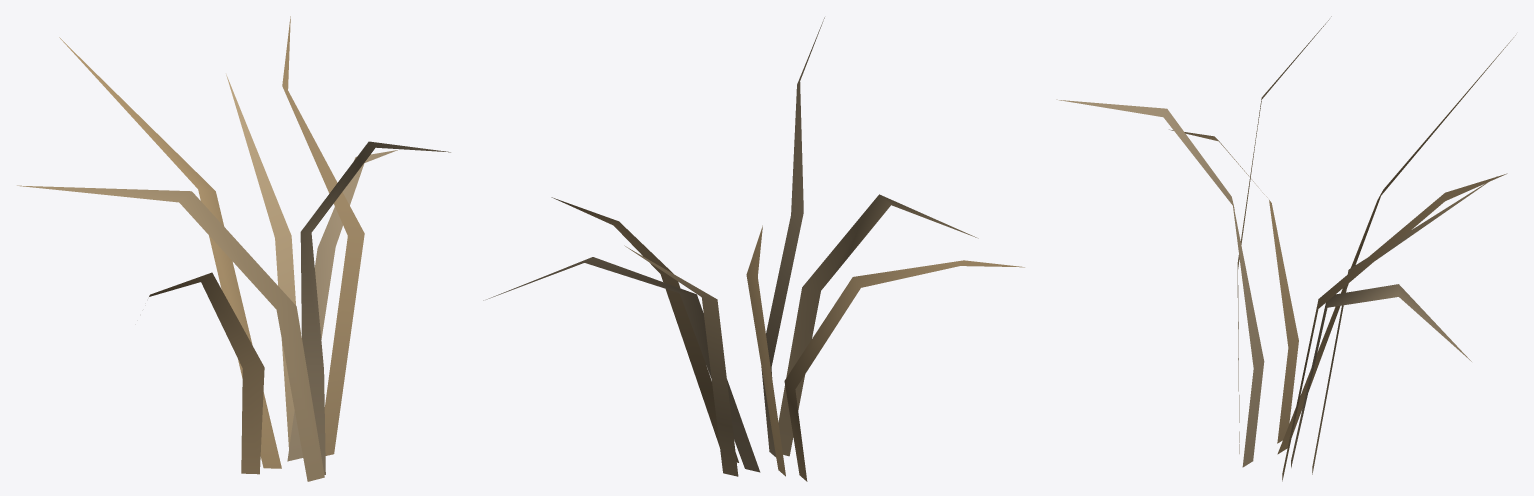
The model's file is Grass_f_TwoS_03.fbx.
3 views of the same model, side by side, from view 1: azimuth 30°, elevation 25°; view 2: azimuth 150°, elevation 25°; view 3: azimuth 270°, elevation 25° (orthographic). The views are drawn at different scales.
Visible parts, largest first — view 1: Grass_f_TwoS_03; view 2: Grass_f_TwoS_03; view 3: Grass_f_TwoS_03.
Part boxes in pixels (bbox=[...]): Grass_f_TwoS_03: bbox=[17, 16, 450, 481]; Grass_f_TwoS_03: bbox=[483, 17, 1024, 481]; Grass_f_TwoS_03: bbox=[1056, 16, 1515, 481].
Bounding box in the file's own units: 45.7 × 36.92 × 40.26.
